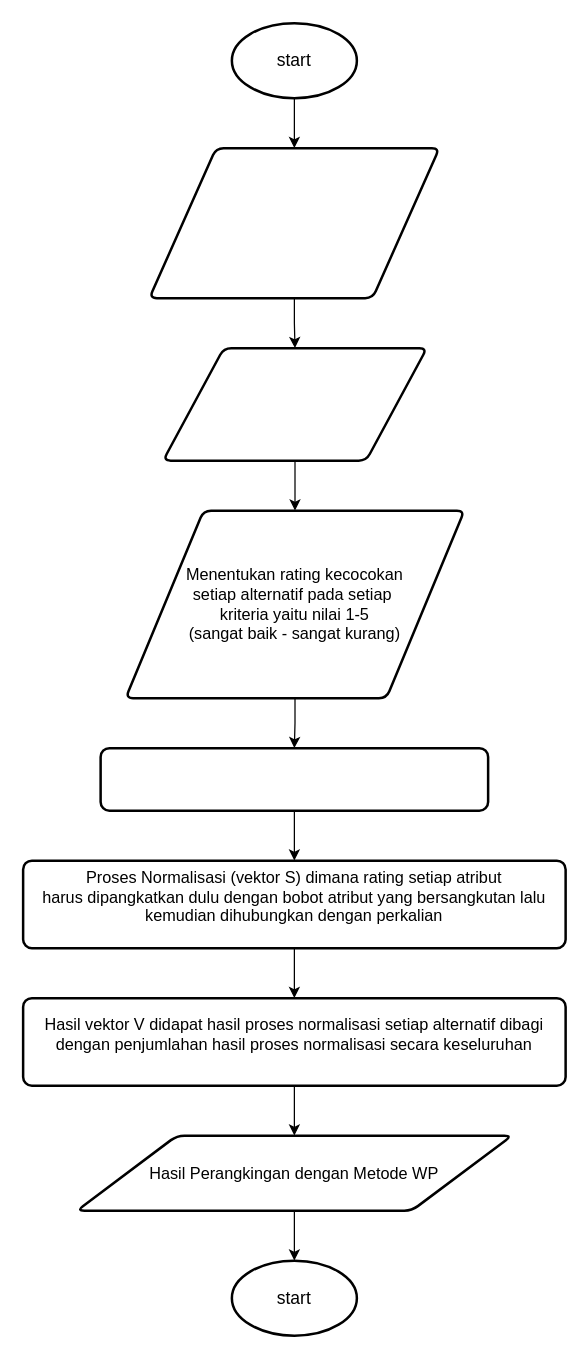
Image size: 588x1358. Some labels were removed from this diagram. Here are the shapes that lost their labels. From the top down, the centre of each, then its label:
At point (294, 222): "Representasi Masalah Menentukan Alternatif Ai, i = 1,2,3,..n Menentukan Ci".
At point (294, 403): "Menentukan Nilai Bobot (W) setiap kriteria".
At point (294, 778): "Memperbaiki Nilai bobot agar total ∑ wj = 1, dengan cara wj = wj / ∑ wj".
